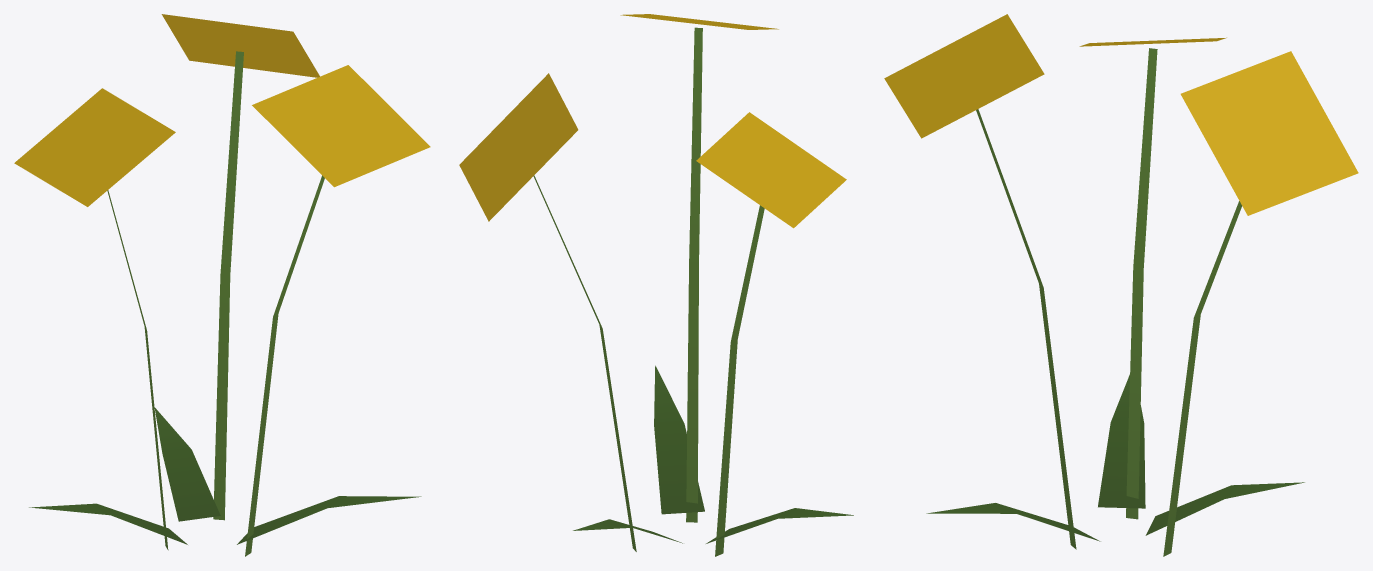
File: flower.meadow.yellow.glb
3 views of the same model, side by side, from view 1: azimuth 30°, elevation 25°; view 2: azimuth 150°, elevation 25°; view 3: azimuth 270°, elevation 25° (orthographic). The views are drawn at different scales.
Parts seen in each view (by area): view 1: flower_meadow_yellow; view 2: flower_meadow_yellow; view 3: flower_meadow_yellow.
Part boxes in pixels (x1,y1,x2,y2): flower_meadow_yellow: (14,14,430,556); flower_meadow_yellow: (459,14,853,556); flower_meadow_yellow: (884,14,1358,556).
Size of the model in its own units: 0.2708 by 0.3584 by 0.2969.
